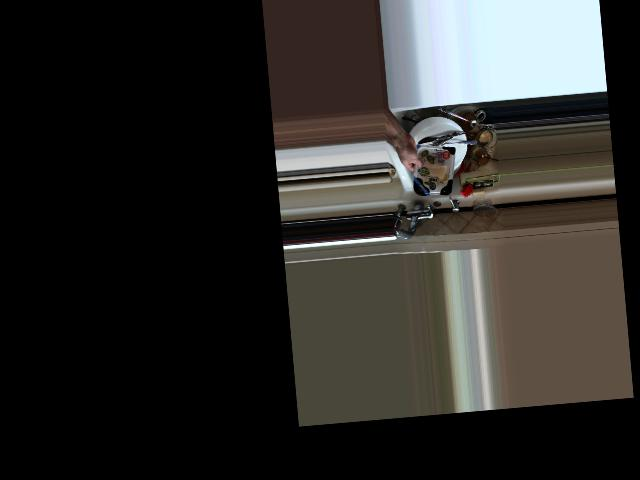cheese: (396, 134, 457, 202)
